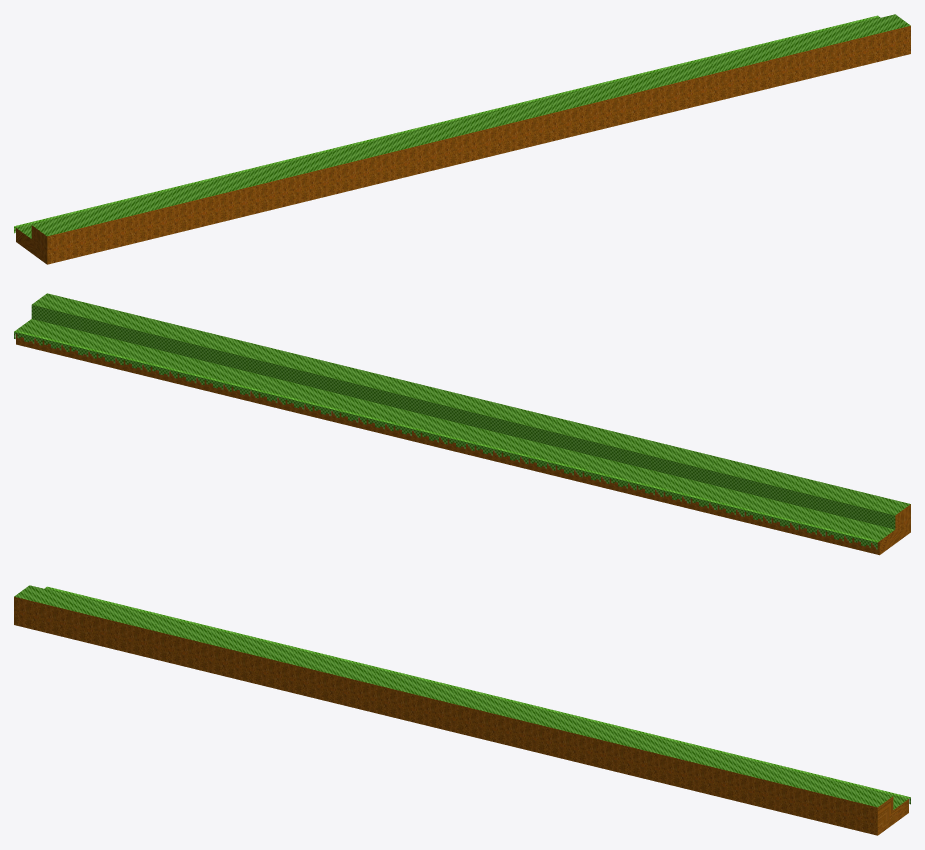
The model's file is stage01_A.fbx.
3 views of the same model, one above another, from view 1: azimuth 30°, elevation 25°; view 2: azimuth 150°, elevation 25°; view 3: azimuth 330°, elevation 25° (orthographic).
Visible parts, largest first — view 1: stage01_A; view 2: stage01_A; view 3: stage01_A.
Part boxes in pixels (box(x1,y1,x2,y2)): stage01_A: box(14, 14, 910, 264); stage01_A: box(14, 293, 910, 555); stage01_A: box(14, 585, 910, 835).
Bounding box in the file's own units: 2376 × 74.45 × 158.
